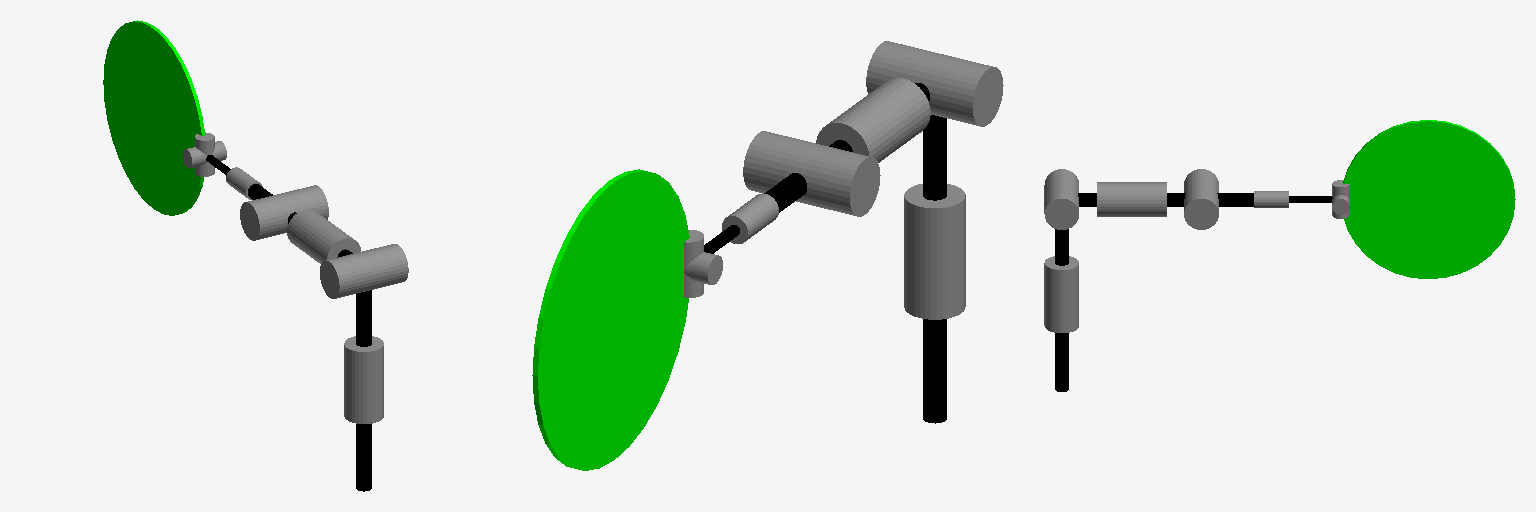
URDF robot description (tennis):
<?xml version="1.0"?>

<robot name="tennis">

  <!-- *************************************************** -->
  <!-- ******************** Kinematics ******************* -->
  <!-- *************************************************** -->

  <!-- <joint name="attach-base" type="fixed">
    <parent link="world"/>
    <child  link="base"/>
  </joint>

  <link name="base"/>

  <joint name="theta0" type="continuous">
    <parent link="base"/>
    <child  link="link0"/>
    <origin xyz="0 0 0.3" rpy="0 0 0"/>
    <axis   xyz="0 1 0"/>
    <dynamics damping="1.0"/>
  </joint>

  <link name="link0"/> -->

  <link name="world"/>

  <joint name="theta1" type="continuous">
    <parent link="world"/>
    <child  link="link1"/>
    <origin xyz="0 0 0.6" rpy="0 0 0"/>
    <axis   xyz="0 0 1"/>
    <dynamics damping="5.0"/>
  </joint>

  <link name="link1"/>

  <joint name="theta2" type="continuous">
    <parent link="link1"/>
    <child  link="link2"/>
    <origin xyz="0 0 0" rpy="0 0 0"/>
    <axis   xyz="1 0 0"/>
    <dynamics damping="5.0"/>
  </joint>

  <link name="link2"/>

  <joint name="attach-shoulder" type="fixed">
    <parent link="link2"/>
    <child  link="shoulder"/>
  </joint>

  <link name="shoulder"/>

  <joint name="theta3" type="continuous">
    <parent link="link2"/>
    <child  link="link3"/>
    <origin xyz="0 0.4 0" rpy="0 0 0"/>
    <axis   xyz="0 1 0 "/>
    <dynamics damping="0.5"/>
  </joint>

  <link name="link3"/>

  <joint name="theta4" type="continuous">
    <parent link="link3"/>
    <child  link="link4"/>
    <origin xyz="0 0 0" rpy="0 0 0"/>
    <axis   xyz="1 0 0 "/>
    <dynamics damping="1.0"/>
  </joint>

  <link name="link4"/>

  <joint name="attach-elbow" type="fixed">
    <parent link="link4"/>
    <child  link="elbow"/>
  </joint>

  <link name="elbow"/>

  <joint name="theta5" type="continuous">
    <parent link="link4"/>
    <child  link="link5"/>
    <origin xyz="0 0.4 0" rpy="0 0 0"/>
    <axis   xyz="0 1 0"/>
    <dynamics damping="0.2"/>
  </joint>

  <link name="link5"/>

  <joint name="theta6" type="continuous">
    <parent link="link5"/>
    <child  link="link6"/>
    <origin xyz="0 0 0" rpy="0 0 0"/>
    <axis   xyz="0 0 1"/>
    <dynamics damping="0.2"/>
  </joint>

  <link name="link6"/>

  <joint name="theta7" type="continuous">
    <parent link="link6"/>
    <child  link="link7"/>
    <origin xyz="0 0 0" rpy="0 0 0"/>
    <axis   xyz="1 0 0"/>
    <dynamics damping="0.2"/>
  </joint>

  <link name="link7"/>

  <joint name="attach-wrist" type="fixed">
    <parent link="link7"/>
    <child  link="wrist"/>
  </joint>

  <link name="wrist"/>

  <joint name="final" type="fixed">
    <parent link="link7"/>
    <child  link="tip"/>
    <origin xyz="0 0.25 0" rpy="0 0 0"/>
  </joint>

  <link name="tip"/>


  <!-- *************************************************** -->
  <!-- ******************* RVIZ Colors ******************* -->
  <!-- *************************************************** -->

  <material name="white">    <color rgba="1.00 1.00 1.00 1"/>  </material>
  <material name="gray">     <color rgba="0.60 0.60 0.60 1"/>  </material>
  <material name="table">    <color rgba="0.85 0.77 0.77 1"/>  </material>
  <material name="black">    <color rgba="0.00 0.00 0.00 1"/>  </material>

  <material name="red">      <color rgba="1.00 0.00 0.00 1"/>  </material>
  <material name="green">    <color rgba="0.00 1.00 0.00 1"/>  </material>
  <material name="blue">     <color rgba="0.00 0.00 1.00 1"/>  </material>

  <material name="cyan">     <color rgba="0.00 1.00 1.00 1"/>  </material>
  <material name="magenta">  <color rgba="1.00 0.00 1.00 1"/>  </material>
  <material name="yellow">   <color rgba="1.00 1.00 0.00 1"/>  </material>

  <material name="orange">   <color rgba="1.00 0.65 0.00 1"/>  </material>


  <!-- *************************************************** -->
  <!-- ****** Building Blocks (Visual AND Inertial) ****** -->
  <!-- *************************************************** -->

  <!-- <joint name="attach-mount0" type="fixed">
    <parent link="base"/>
    <child  link="mount0"/>
  </joint>
  <link name="mount0">
    <visual>
      <origin xyz="0 0 0.15" rpy="0 0 0"/>
      <geometry>
        <cylinder length="0.2" radius="0.02"/>
      </geometry>
      <material name="black"/>
    </visual>
    <collision>
      <origin xyz="0 0 0.15" rpy="0 0 0"/>
      <geometry>
        <cylinder length="0.2" radius="0.02"/>
      </geometry>
    </collision>
    <inertial>
      <origin xyz="0 0 0.15" rpy="0 0 0"/>
      <mass value="0.2"/>
      <inertia
        ixx="0.000687" ixy="0.0" ixz="0.0"
        iyy="0.000687" iyz="0.0"
        izz="0.000040"/>
    </inertial>
  </link>

  <joint name="attach-motor0" type="fixed">
    <parent link="base"/>
    <child  link="motor0"/>
  </joint>
  <link name="motor0">
    <visual>
      <origin xyz="0 0 0.3" rpy="0 1.57 1.57"/>
      <geometry>
        <cylinder length="0.2" radius="0.05"/>
      </geometry>
      <material name="gray"/>
    </visual>
    <collision>
      <origin xyz="0 0 0.3" rpy="0 1.57 1.57"/>
      <geometry>
        <cylinder length="0.2" radius="0.05"/>
      </geometry>
    </collision>
    <inertial>
      <origin xyz="0 0 0.3" rpy="0 1.57 1.57"/>
      <mass value="2.0"/>
      <inertia
        ixx="0.007917" ixy="0.0" ixz="0.0"
        iyy="0.007917" iyz="0.0"
        izz="0.002500"/>
    </inertial>
  </link> -->

  <!-- *** World-Fixed: Mount 1, Motor 1 *** -->

  <joint name="attach-mount1" type="fixed">
    <parent link="world"/>
    <child  link="mount1"/>
  </joint>
  <link name="mount1">
    <visual>
      <origin xyz="0 0 0.1" rpy="0 0 0"/>
      <geometry>
  <cylinder length="0.2" radius="0.02"/>
      </geometry>
      <material name="black"/>
    </visual>
    <collision>
      <origin xyz="0 0 0.1" rpy="0 0 0"/>
      <geometry>
  <cylinder length="0.2" radius="0.02"/>
      </geometry>
    </collision>
    <inertial>
      <origin xyz="0 0 0.1" rpy="0 0 0"/>
      <mass value="0.2"/>
      <inertia
        ixx="0.000687" ixy="0.0" ixz="0.0"
        iyy="0.000687" iyz="0.0"
        izz="0.000040"/>
    </inertial>
  </link>

  <joint name="attach-motor1" type="fixed">
    <parent link="world"/>
    <child  link="motor1"/>
  </joint>
  <link name="motor1">
    <visual>
      <origin xyz="0 0 0.3" rpy="0 0 0"/>
      <geometry>
  <cylinder length="0.2" radius="0.05"/>
      </geometry>
      <material name="gray"/>
    </visual>
    <collision>
      <origin xyz="0 0 0.3" rpy="0 0 0"/>
      <geometry>
  <cylinder length="0.2" radius="0.05"/>
      </geometry>
    </collision>
    <inertial>
      <origin xyz="0 0 0.3" rpy="0 0 0"/>
      <mass value="2.0"/>
      <inertia
        ixx="0.007917" ixy="0.0" ixz="0.0"
        iyy="0.007917" iyz="0.0"
        izz="0.002500"/>
    </inertial>
  </link>

  <!-- *** Motor 1 Output: Mount 2, Motor 2 *** -->

  <joint name="attach-mount2" type="fixed">
    <parent link="link1"/>
    <child  link="mount2"/>
  </joint>
  <link name="mount2">
    <visual>
      <origin xyz="0 0 -0.1" rpy="0 0 0"/>
      <geometry>
  <cylinder length="0.2" radius="0.02"/>
      </geometry>
      <material name="black"/>
    </visual>
    <collision>
      <origin xyz="0 0 -0.1" rpy="0 0 0"/>
      <geometry>
  <cylinder length="0.2" radius="0.02"/>
      </geometry>
    </collision>
    <inertial>
      <origin xyz="0 0 -0.1" rpy="0 0 0"/>
      <mass value="0.2"/>
      <inertia
        ixx="0.000687" ixy="0.0" ixz="0.0"
        iyy="0.000687" iyz="0.0"
        izz="1.000040"/>
    </inertial>
  </link>

  <joint name="attach-motor2" type="fixed">
    <parent link="link1"/>
    <child  link="motor2"/>
  </joint>
  <link name="motor2">
    <visual>
      <origin xyz="0 0 0" rpy="0 1.5708 0"/>
      <geometry>
  <cylinder length="0.2" radius="0.05"/>
      </geometry>
      <material name="gray"/>
    </visual>
    <collision>
      <origin xyz="0 0 0" rpy="0 1.5708 0"/>
      <geometry>
  <cylinder length="0.2" radius="0.05"/>
      </geometry>
    </collision>
    <inertial>
      <origin xyz="0 0 0" rpy="0 1.5708 0"/>
      <mass value="2.0"/>
      <inertia
        ixx="0.007917" ixy="0.0" ixz="0.0"
        iyy="0.007917" iyz="0.0"
        izz="0.002500"/>
    </inertial>
  </link>

  <!-- *** Motor 2 Output: Mount 3, Motor 3 *** -->

  <joint name="attach-mount3" type="fixed">
    <parent link="link2"/>
    <child  link="mount3"/>
  </joint>
  <link name="mount3">
    <visual>
      <origin xyz="0 0.1 0" rpy="1.5708 0 0"/>
      <geometry>
  <cylinder length="0.2" radius="0.02"/>
      </geometry>
      <material name="black"/>
    </visual>
    <collision>
      <origin xyz="0 0.1 0" rpy="1.5708 0 0"/>
      <geometry>
  <cylinder length="0.2" radius="0.02"/>
      </geometry>
    </collision>
    <inertial>
      <origin xyz="0 0.1 0" rpy="1.5708 0 0"/>
      <mass value="0.2"/>
      <inertia
        ixx="1.000687" ixy="0.0" ixz="0.0"
        iyy="0.000687" iyz="0.0"
        izz="0.000040"/>
    </inertial>
  </link>

  <joint name="attach-motor3" type="fixed">
    <parent link="link2"/>
    <child  link="motor3"/>
  </joint>
  <link name="motor3">
    <visual>
      <origin xyz="0 0.2 0" rpy="1.5708 0 0"/>
      <geometry>
  <cylinder length="0.2" radius="0.05"/>
      </geometry>
      <material name="gray"/>
    </visual>
    <collision>
      <origin xyz="0 0.2 0" rpy="1.5708 0 0"/>
      <geometry>
  <cylinder length="0.2" radius="0.05"/>
      </geometry>
    </collision>
    <inertial>
      <origin xyz="0 0.2 0" rpy="1.5708 0 0"/>
      <mass value="2.0"/>
      <inertia
        ixx="0.007917" ixy="0.0" ixz="0.0"
        iyy="0.007917" iyz="0.0"
        izz="0.002500"/>
    </inertial>
  </link>

  <!-- *** Motor 3 Output: Mount 4, Motor 4 *** -->

  <joint name="attach-mount4" type="fixed">
    <parent link="link3"/>
    <child  link="mount4"/>
  </joint>
  <link name="mount4">
    <visual>
      <origin xyz="0 -0.1 0" rpy="1.5708 0 0"/>
      <geometry>
  <cylinder length="0.2" radius="0.02"/>
      </geometry>
      <material name="black"/>
    </visual>
    <collision>
      <origin xyz="0 -0.1 0" rpy="1.5708 0 0"/>
      <geometry>
  <cylinder length="0.2" radius="0.02"/>
      </geometry>
    </collision>
    <inertial>
      <origin xyz="0 -0.1 0" rpy="1.5708 0 0"/>
      <mass value="0.2"/>
      <inertia
        ixx="0.000687" ixy="0.0" ixz="0.0"
        iyy="0.000687" iyz="0.0"
        izz="1.000040"/>
    </inertial>
  </link>

  <joint name="attach-motor4" type="fixed">
    <parent link="link3"/>
    <child  link="motor4"/>
  </joint>
  <link name="motor4">
    <visual>
      <origin xyz="0 0 0" rpy="0 1.5708 0"/>
      <geometry>
  <cylinder length="0.2" radius="0.05"/>
      </geometry>
      <material name="gray"/>
    </visual>
    <collision>
      <origin xyz="0 0 0" rpy="0 1.5708 0"/>
      <geometry>
  <cylinder length="0.2" radius="0.05"/>
      </geometry>
    </collision>
    <inertial>
      <origin xyz="0 0 0" rpy="0 1.5708 0"/>
      <mass value="2.0"/>
      <inertia
        ixx="0.007917" ixy="0.0" ixz="0.0"
        iyy="0.007917" iyz="0.0"
        izz="0.002500"/>
    </inertial>
  </link>

  <!-- *** Motor 4 Output: Mount 5, Motor 5 *** -->

  <joint name="attach-mount5" type="fixed">
    <parent link="link4"/>
    <child  link="mount5"/>
  </joint>
  <link name="mount5">
    <visual>
      <origin xyz="0 0.1 0" rpy="1.5708 0 0"/>
      <geometry>
  <cylinder length="0.2" radius="0.02"/>
      </geometry>
      <material name="black"/>
    </visual>
    <collision>
      <origin xyz="0 0.1 0" rpy="1.5708 0 0"/>
      <geometry>
  <cylinder length="0.2" radius="0.02"/>
      </geometry>
    </collision>
    <inertial>
      <origin xyz="0 0.1 0" rpy="1.5708 0 0"/>
      <mass value="0.2"/>
      <inertia
        ixx="0.500687" ixy="0.0" ixz="0.0"
        iyy="0.000687" iyz="0.0"
        izz="0.000040"/>
    </inertial>
  </link>

  <joint name="attach-motor5" type="fixed">
    <parent link="link4"/>
    <child  link="motor5"/>
  </joint>
  <link name="motor5">
    <visual>
      <origin xyz="0 0.2 0" rpy="1.5708 0 0"/>
      <geometry>
  <cylinder length="0.1" radius="0.025"/>
      </geometry>
      <material name="gray"/>
    </visual>
    <collision>
      <origin xyz="0 0.2 0" rpy="1.5708 0 0"/>
      <geometry>
  <cylinder length="0.1" radius="0.025"/>
      </geometry>
    </collision>
    <inertial>
      <origin xyz="0 0.2 0" rpy="1.5708 0 0"/>
      <mass value="1.0"/>
      <inertia
        ixx="0.000990" ixy="0.0" ixz="0.0"
        iyy="0.000990" iyz="0.0"
        izz="0.000313"/>
    </inertial>
  </link>

  <!-- *** Motor 5 Output: Mount 6, Motor 6 *** -->

  <joint name="attach-mount6" type="fixed">
    <parent link="link5"/>
    <child  link="mount6"/>
  </joint>
  <link name="mount6">
    <visual>
      <origin xyz="0 -0.1 0" rpy="1.5708 0 0"/>
      <geometry>
  <cylinder length="0.2" radius="0.01"/>
      </geometry>
      <material name="black"/>
    </visual>
    <collision>
      <origin xyz="0 -0.1 0" rpy="1.5708 0 0"/>
      <geometry>
  <cylinder length="0.2" radius="0.01"/>
      </geometry>
    </collision>
    <inertial>
      <origin xyz="0 -0.1 0" rpy="1.5708 0 0"/>
      <mass value="0.1"/>
      <inertia
        ixx="0.000336" ixy="0.0" ixz="0.0"
        iyy="0.000336" iyz="0.0"
        izz="0.500005"/>
    </inertial>
  </link>

  <joint name="attach-motor6" type="fixed">
    <parent link="link5"/>
    <child  link="motor6"/>
  </joint>
  <link name="motor6">
    <visual>
      <origin xyz="0 0 0" rpy="0 0 0"/>
      <geometry>
  <cylinder length="0.1" radius="0.025"/>
      </geometry>
      <material name="gray"/>
    </visual>
    <collision>
      <origin xyz="0 0 0" rpy="0 0 0"/>
      <geometry>
  <cylinder length="0.1" radius="0.025"/>
      </geometry>
    </collision>
    <inertial>
      <origin xyz="0 0 0" rpy="0 0 0"/>
      <mass value="1.0"/>
      <inertia
        ixx="0.000990" ixy="0.0" ixz="0.0"
        iyy="0.000990" iyz="0.0"
        izz="0.000313"/>
    </inertial>
  </link>

  <!-- *** Motor 6 Output: Motor 7 *** -->

  <joint name="attach-motor7" type="fixed">
    <parent link="link6"/>
    <child  link="motor7"/>
  </joint>
  <link name="motor7">
    <visual>
      <origin xyz="0 0 0" rpy="0 1.5708 0"/>
      <geometry>
  <cylinder length="0.1" radius="0.025"/>
      </geometry>
      <material name="gray"/>
    </visual>
    <collision>
      <origin xyz="0 0 0" rpy="0 1.5708 0"/>
      <geometry>
  <cylinder length="0.1" radius="0.025"/>
      </geometry>
    </collision>
    <inertial>
      <origin xyz="0 0 0" rpy="0 1.5708 0"/>
      <mass value="1.0"/>
      <inertia
        ixx="0.500990" ixy="0.0" ixz="0.0"
        iyy="0.000990" iyz="0.0"
        izz="0.000313"/>
    </inertial>
  </link>

  <!-- *** Motor 7 Output: Base, Palm, Fingers *** -->

  <!-- *** Object: Six sides *** -->

  <joint name="attach-racket" type="fixed">
    <parent link="tip"/>
    <child  link="racket"/>
  </joint>
  <link name="racket">
    <collision>
      <origin xyz="0 0 0" rpy="0 1.57 0"/>
      <geometry>
        <cylinder radius=".2" length="0.01"/>
      </geometry>
    </collision>
  </link>


  <joint name="attach-racketv" type="fixed">
    <parent link="tip"/>
    <child  link="racketv"/>
  </joint>
  <link name="racketv">
    <visual>
      <origin xyz="0 0 0" rpy="0 1.57 0"/>
      <geometry>
        <cylinder radius=".25" length="0.01"/>
      </geometry>
      <material name="green"/>
    </visual>
    <inertial>
      <origin xyz="0 0 0" rpy="0 1.57 0"/>
      <mass value="0.16"/>
      <inertia
        ixx="0.000020" ixy="0.0" ixz="0.0"
        iyy="0.000020" iyz="0.0"
        izz="0.000020"/>
    </inertial>
  </link>

  <!-- *************************************************** -->
  <!-- ******************* Gazebo Colors ***************** -->
  <!-- *************************************************** -->

  <gazebo reference="motor1"> <material>Gazebo/Gray</material>  </gazebo>
  <gazebo reference="motor2"> <material>Gazebo/Gray</material>  </gazebo>
  <gazebo reference="motor3"> <material>Gazebo/Gray</material>  </gazebo>
  <gazebo reference="motor4"> <material>Gazebo/Gray</material>  </gazebo>
  <gazebo reference="motor5"> <material>Gazebo/Gray</material>  </gazebo>
  <gazebo reference="motor6"> <material>Gazebo/Gray</material>  </gazebo>
  <gazebo reference="motor7"> <material>Gazebo/Gray</material>  </gazebo>

  <gazebo reference="mount1">   <material>Gazebo/Black</material> </gazebo>
  <gazebo reference="mount2">   <material>Gazebo/Black</material> </gazebo>
  <gazebo reference="mount3">   <material>Gazebo/Black</material> </gazebo>
  <gazebo reference="mount4">   <material>Gazebo/Black</material> </gazebo>
  <gazebo reference="mount5">   <material>Gazebo/Black</material> </gazebo>
  <gazebo reference="mount6">   <material>Gazebo/Black</material> </gazebo>

  <gazebo reference="handbase">    <material>Gazebo/Black</material> </gazebo>
  <gazebo reference="palm">        <material>Gazebo/Black</material> </gazebo>
  <gazebo reference="leftfinger">  <material>Gazebo/Black</material> </gazebo>
  <gazebo reference="rightfinger"> <material>Gazebo/Black</material> </gazebo>

  <gazebo reference="cube-up">    <material>Gazebo/Green</material>  </gazebo>
  <gazebo reference="cube-down">  <material>Gazebo/Yellow</material> </gazebo>
  <gazebo reference="cube-left">  <material>Gazebo/Red</material>    </gazebo>
  <gazebo reference="cube-right"> <material>Gazebo/Orange</material> </gazebo>
  <gazebo reference="cube-front"> <material>Gazebo/Blue</material>   </gazebo>
  <gazebo reference="cube-back">  <material>Gazebo/White</material>  </gazebo>

  <!-- *************************************************** -->
  <!-- ************** Gazebo Transmissions *************** -->
  <!-- *************************************************** -->
  <!-- <transmission name="trans0">
    <type>transmission_interface/SimpleTransmission</type>
    <joint name="theta0">
      <hardwareInterface>hardware_interface/EffortJointInterface</hardwareInterface>
    </joint>
    <actuator name="motor0">
      <mechanicalReduction>1</mechanicalReduction>
      <hardwareInterface>hardware_interface/EffortJointInterface</hardwareInterface>
    </actuator>
  </transmission> -->

  <transmission name="trans1">
    <type>transmission_interface/SimpleTransmission</type>
    <joint name="theta1">
      <hardwareInterface>hardware_interface/EffortJointInterface</hardwareInterface>
    </joint>
    <actuator name="motor1">
      <mechanicalReduction>1</mechanicalReduction>
      <hardwareInterface>hardware_interface/EffortJointInterface</hardwareInterface>
    </actuator>
  </transmission>

  <transmission name="trans2">
    <type>transmission_interface/SimpleTransmission</type>
    <joint name="theta2">
      <hardwareInterface>hardware_interface/EffortJointInterface</hardwareInterface>
    </joint>
    <actuator name="motor2">
      <mechanicalReduction>1</mechanicalReduction>
      <hardwareInterface>hardware_interface/EffortJointInterface</hardwareInterface>
    </actuator>
  </transmission>

  <transmission name="trans3">
    <type>transmission_interface/SimpleTransmission</type>
    <joint name="theta3">
      <hardwareInterface>hardware_interface/EffortJointInterface</hardwareInterface>
    </joint>
    <actuator name="motor3">
      <mechanicalReduction>1</mechanicalReduction>
      <hardwareInterface>hardware_interface/EffortJointInterface</hardwareInterface>
    </actuator>
  </transmission>

  <transmission name="trans4">
    <type>transmission_interface/SimpleTransmission</type>
    <joint name="theta4">
      <hardwareInterface>hardware_interface/EffortJointInterface</hardwareInterface>
    </joint>
    <actuator name="motor4">
      <mechanicalReduction>1</mechanicalReduction>
      <hardwareInterface>hardware_interface/EffortJointInterface</hardwareInterface>
    </actuator>
  </transmission>

  <transmission name="trans5">
    <type>transmission_interface/SimpleTransmission</type>
    <joint name="theta5">
      <hardwareInterface>hardware_interface/EffortJointInterface</hardwareInterface>
    </joint>
    <actuator name="motor5">
      <mechanicalReduction>1</mechanicalReduction>
      <hardwareInterface>hardware_interface/EffortJointInterface</hardwareInterface>
    </actuator>
  </transmission>

  <transmission name="trans6">
    <type>transmission_interface/SimpleTransmission</type>
    <joint name="theta6">
      <hardwareInterface>hardware_interface/EffortJointInterface</hardwareInterface>
    </joint>
    <actuator name="motor6">
      <mechanicalReduction>1</mechanicalReduction>
      <hardwareInterface>hardware_interface/EffortJointInterface</hardwareInterface>
    </actuator>
  </transmission>

  <transmission name="trans7">
    <type>transmission_interface/SimpleTransmission</type>
    <joint name="theta7">
      <hardwareInterface>hardware_interface/EffortJointInterface</hardwareInterface>
    </joint>
    <actuator name="motor7">
      <mechanicalReduction>1</mechanicalReduction>
      <hardwareInterface>hardware_interface/EffortJointInterface</hardwareInterface>
    </actuator>
  </transmission>


  <!-- *************************************************** -->
  <!-- *************** Gazebo Controllers **************** -->
  <!-- *************************************************** -->

  <gazebo>
    <plugin name="gazebo_ros_control" filename="libgazebo_ros_control.so">
      <robotNamespace>/tennis</robotNamespace>
      <robotSimType>gazebo_ros_control/DefaultRobotHWSim</robotSimType>
    </plugin>
  </gazebo>
</robot>

--- Render facts (derived) ---
3 views of the same robot in one strip: view 1: azimuth 30°, elevation 25°; view 2: azimuth 150°, elevation 25°; view 3: azimuth 270°, elevation 25° (orthographic).
Model tennis with 27 links and 26 joints (7 continuous, 19 fixed), rooted at world, posed all joints at 0.
Visible links, largest first — view 1: racketv, motor2, motor1, motor4, motor3, mount1, mount2, motor7, motor6, motor5; view 2: racketv, motor1, motor4, motor2, motor3, mount1, mount2, motor5, motor7, mount5, motor6; view 3: racketv, motor1, motor3, motor4, motor2, mount1, motor5.
Boxes of the visible links, x1,y1,x2,y2 form: racketv: (103, 20, 204, 215); motor2: (320, 244, 408, 298); motor1: (344, 336, 383, 423); motor4: (240, 185, 328, 240); motor3: (287, 209, 360, 263); mount1: (356, 424, 371, 491); mount2: (356, 290, 371, 346); motor7: (183, 141, 226, 168); motor6: (195, 132, 214, 176); motor5: (226, 167, 262, 199); racketv: (532, 169, 689, 470); motor1: (904, 184, 965, 319); motor4: (743, 131, 880, 216); motor2: (866, 41, 1003, 126); motor3: (816, 78, 930, 162); mount1: (923, 319, 946, 423); mount2: (923, 115, 946, 200); motor5: (722, 193, 778, 243); motor7: (684, 252, 722, 284); mount5: (764, 173, 806, 212); motor6: (684, 230, 703, 297); racketv: (1343, 120, 1515, 278); motor1: (1044, 256, 1078, 332); motor3: (1097, 182, 1166, 216); motor4: (1184, 169, 1218, 229); motor2: (1044, 169, 1078, 229); mount1: (1055, 333, 1068, 391); motor5: (1254, 191, 1288, 207).
Bounding box of the posed robot: 0.2 × 1.35 × 0.85 m (x, y, z).
Geometry: primitives only (box / cylinder / sphere), no mesh files.